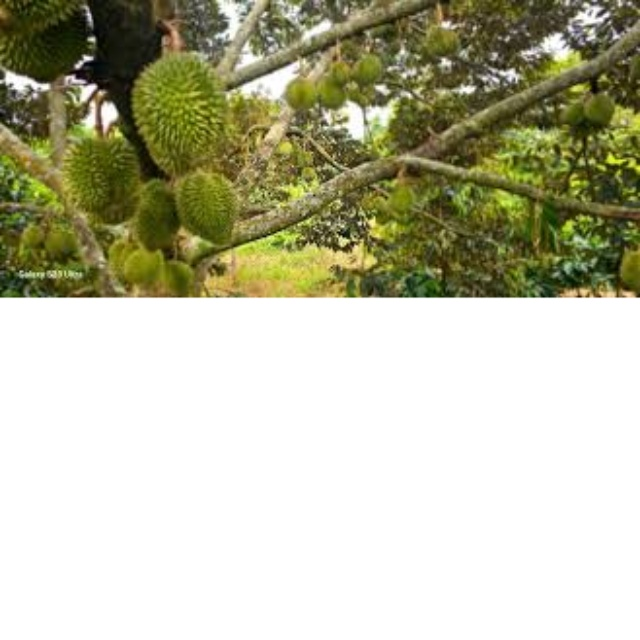sau_rieng: (133, 49, 226, 178), (62, 133, 133, 216), (175, 175, 241, 246)
